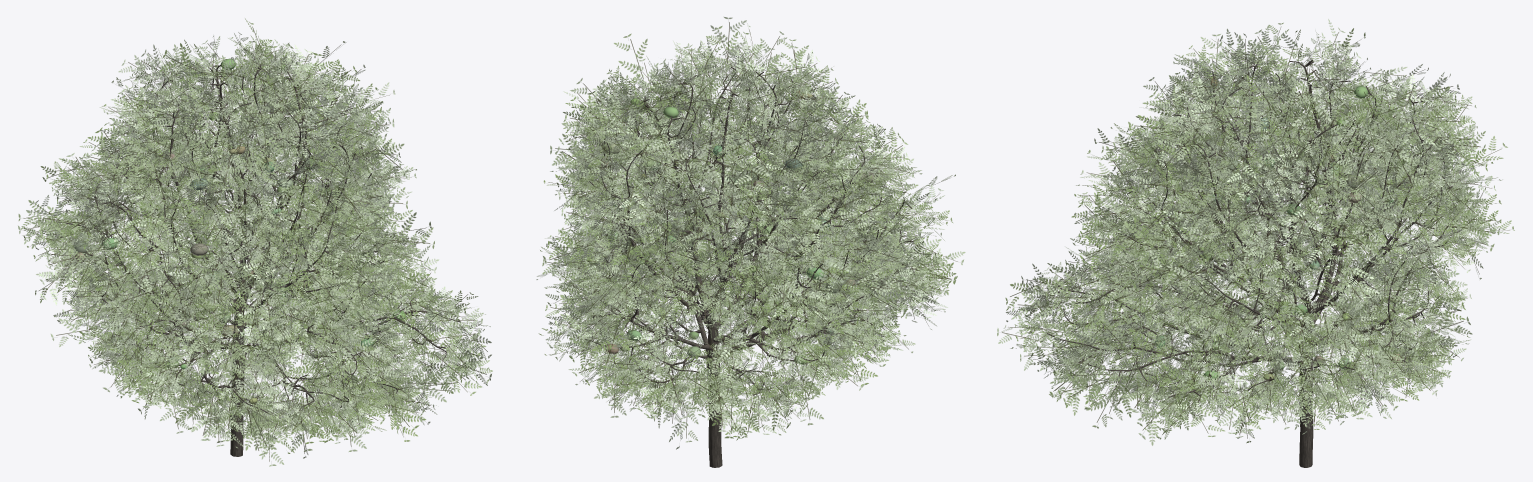
The model's file is tree_48_broadleaf.glb.
3 views of the same model, side by side, from view 1: azimuth 30°, elevation 25°; view 2: azimuth 150°, elevation 25°; view 3: azimuth 270°, elevation 25° (orthographic). The views are drawn at different scales.
Parts seen in each view (by area): view 1: tree_48_broadleaf.leaves, tree_48_broadleaf.trunk_branches, tree_48_broadleaf.foliage_volume; view 2: tree_48_broadleaf.leaves, tree_48_broadleaf.trunk_branches, tree_48_broadleaf.foliage_volume; view 3: tree_48_broadleaf.leaves, tree_48_broadleaf.trunk_branches, tree_48_broadleaf.foliage_volume.
Part boxes in pixels (bbox=[...]): tree_48_broadleaf.leaves: bbox=[18, 18, 492, 466]; tree_48_broadleaf.trunk_branches: bbox=[65, 60, 460, 456]; tree_48_broadleaf.foliage_volume: bbox=[73, 58, 406, 403]; tree_48_broadleaf.leaves: bbox=[536, 17, 965, 449]; tree_48_broadleaf.trunk_branches: bbox=[583, 67, 916, 467]; tree_48_broadleaf.foliage_volume: bbox=[587, 91, 905, 364]; tree_48_broadleaf.leaves: bbox=[997, 19, 1514, 445]; tree_48_broadleaf.trunk_branches: bbox=[1046, 59, 1457, 467]; tree_48_broadleaf.foliage_volume: bbox=[1110, 76, 1433, 380].
Bounding box in the file's own units: 13.11 × 12.95 × 13.94.
Materials: 3 (2 with a texture image).
